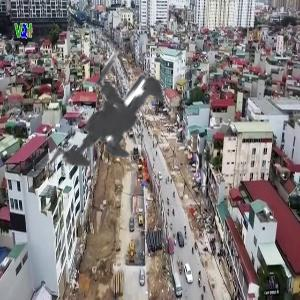drone: (3, 6, 243, 246)
